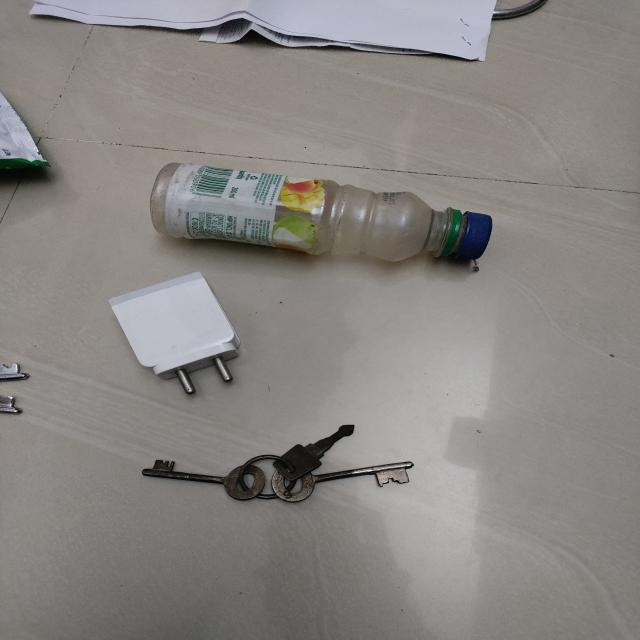dry: (150, 159, 494, 268), (20, 0, 489, 68), (142, 421, 420, 505), (110, 277, 244, 399), (0, 94, 52, 190), (0, 352, 33, 420), (492, 0, 552, 27)
